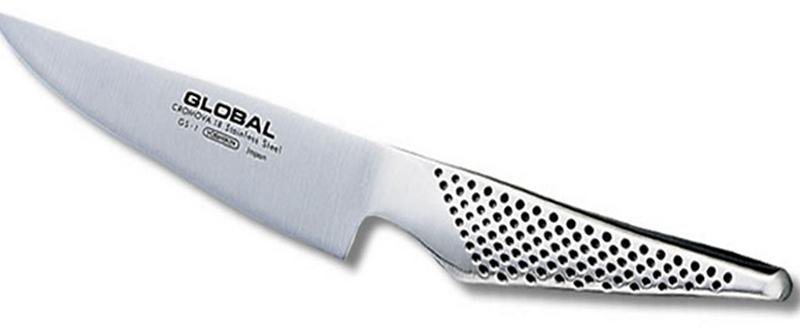knife: (1, 10, 800, 299)
